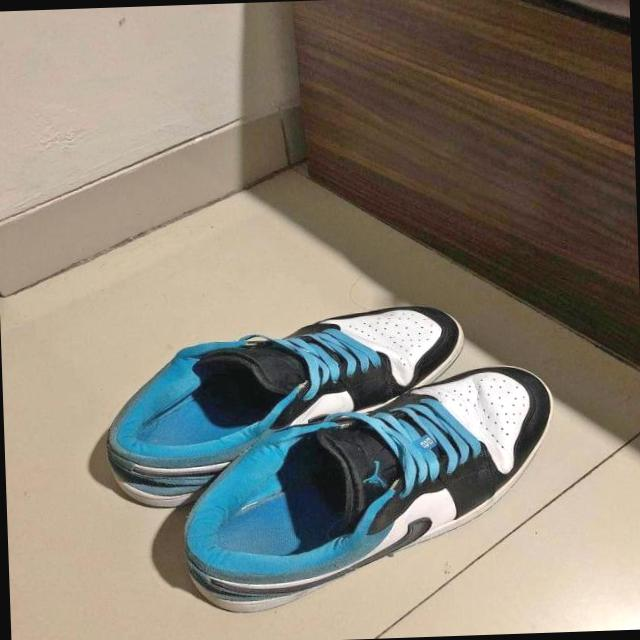nike_fake_jordan: (172, 362, 558, 614), (99, 299, 471, 522)
